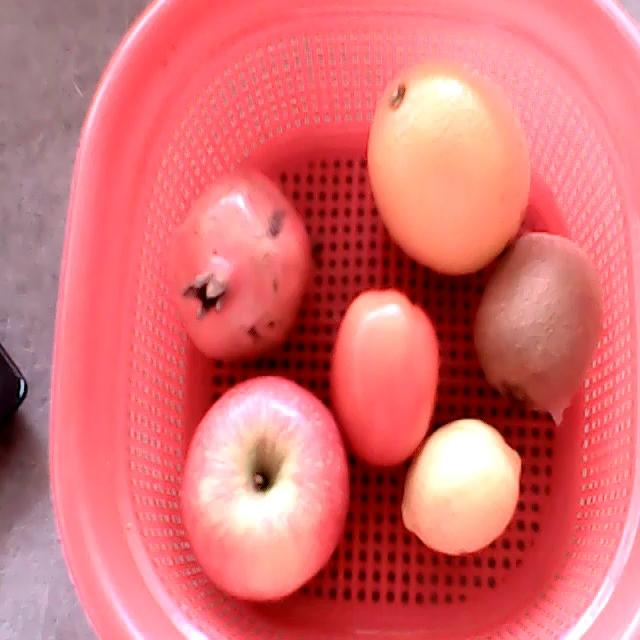apple: (178, 375, 349, 600)
kiwi: (474, 233, 604, 414)
lemon: (403, 420, 521, 556)
orange: (367, 64, 531, 274)
pomegranate: (168, 168, 309, 364)
tomato: (331, 287, 438, 466)
